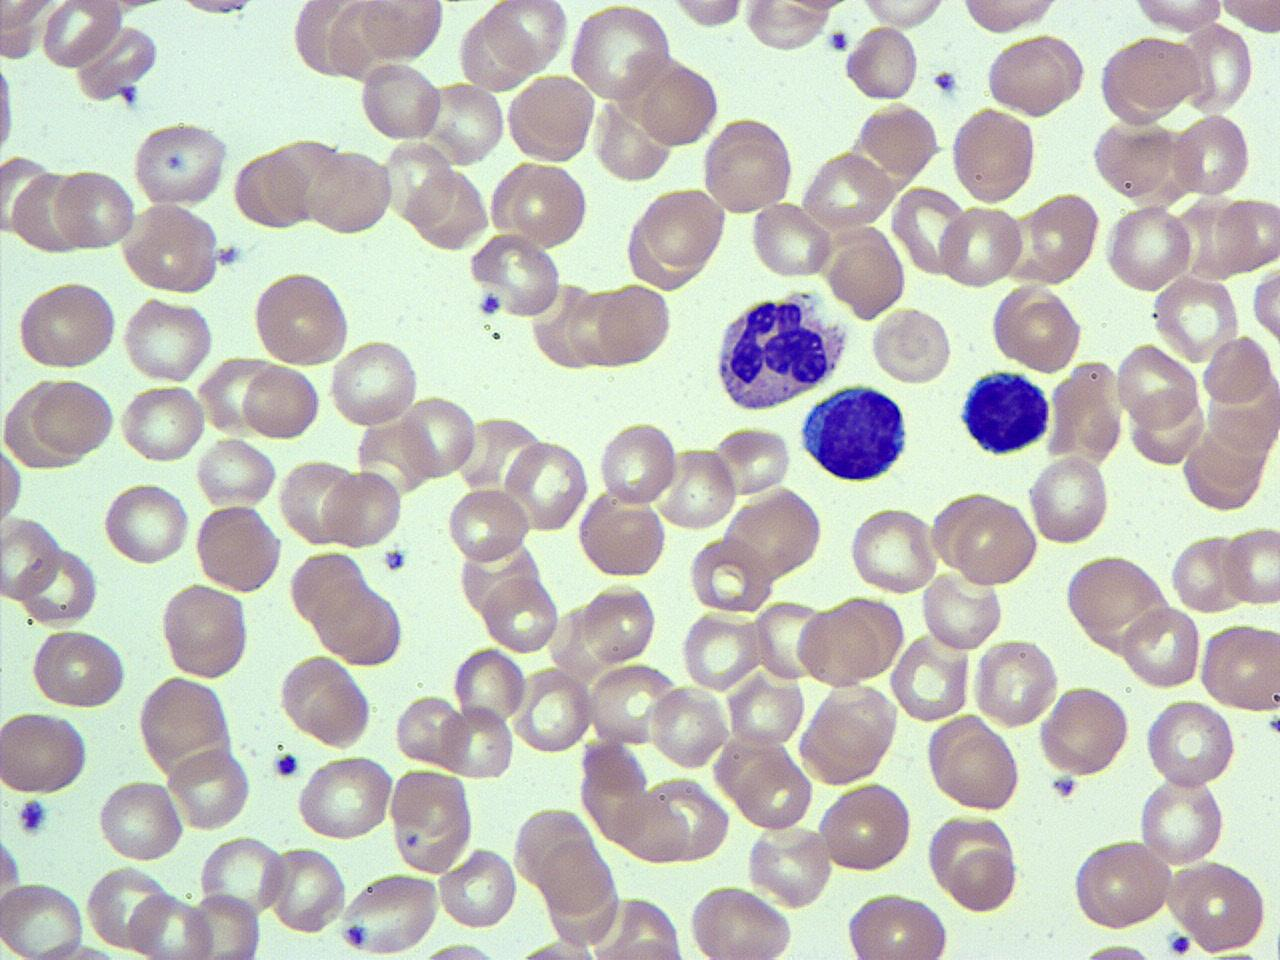Platelets: (16, 795, 51, 837), (930, 68, 962, 97), (211, 241, 243, 268), (273, 750, 301, 781), (476, 290, 503, 319), (381, 546, 407, 574), (1167, 930, 1191, 958), (121, 82, 142, 112), (826, 28, 850, 55), (1264, 714, 1280, 737)
RBC: (567, 2, 674, 102), (1166, 856, 1272, 956), (136, 674, 234, 782), (249, 268, 352, 369), (1062, 552, 1170, 644), (1070, 836, 1174, 932), (14, 278, 118, 373), (924, 714, 1022, 814), (816, 778, 915, 876), (700, 116, 796, 216), (119, 200, 220, 294), (387, 768, 476, 874), (948, 104, 1038, 208), (1037, 682, 1131, 781), (276, 652, 372, 748), (845, 502, 940, 598), (988, 282, 1085, 375), (159, 582, 250, 682), (340, 869, 442, 957), (1136, 772, 1230, 868), (118, 294, 216, 386), (1102, 201, 1196, 294), (983, 33, 1087, 118), (501, 435, 590, 534), (295, 754, 396, 842), (129, 122, 232, 208), (328, 339, 422, 432), (1100, 33, 1204, 117), (1150, 271, 1242, 366), (470, 230, 565, 321), (506, 72, 598, 165), (1143, 697, 1237, 788), (632, 185, 730, 271), (191, 502, 283, 594), (972, 635, 1060, 730), (688, 881, 794, 960), (28, 626, 127, 710), (800, 146, 896, 232), (1026, 452, 1112, 548), (825, 224, 909, 322), (95, 776, 187, 864), (0, 708, 91, 797), (577, 492, 668, 580), (99, 480, 193, 566), (356, 58, 446, 146), (196, 832, 288, 918), (924, 811, 1014, 898), (304, 148, 394, 236), (796, 602, 886, 690), (890, 181, 970, 279), (845, 888, 953, 960), (746, 822, 834, 911), (586, 663, 676, 748), (1112, 342, 1202, 428), (919, 564, 1005, 653), (887, 630, 971, 722), (938, 202, 1024, 290), (508, 160, 591, 252), (115, 381, 207, 464), (1199, 620, 1279, 714), (270, 843, 349, 938), (274, 455, 358, 544), (398, 391, 480, 482), (596, 419, 680, 506), (51, 166, 138, 251), (656, 443, 738, 532), (958, 499, 1039, 590), (30, 374, 117, 458), (406, 164, 489, 252), (1121, 602, 1203, 690), (641, 59, 721, 150), (168, 746, 252, 832), (748, 198, 834, 281), (321, 466, 404, 551), (680, 607, 763, 693), (513, 666, 593, 754), (438, 843, 518, 932), (1182, 19, 1256, 115), (1028, 188, 1102, 283), (724, 668, 806, 752), (0, 877, 86, 959), (1172, 112, 1254, 198), (686, 534, 774, 614), (648, 684, 728, 771), (451, 644, 530, 732), (430, 78, 506, 169), (231, 147, 312, 231), (446, 484, 532, 564), (870, 305, 952, 385), (239, 362, 322, 443), (580, 580, 658, 665), (481, 574, 562, 654), (596, 281, 672, 367), (76, 24, 159, 102), (1169, 530, 1245, 615), (752, 598, 825, 684), (127, 888, 215, 960), (483, 0, 570, 72), (842, 24, 920, 103), (194, 437, 278, 509), (536, 836, 616, 912), (714, 422, 792, 497), (1126, 390, 1206, 464), (40, 0, 123, 72), (442, 703, 516, 782), (185, 888, 264, 960), (1211, 192, 1279, 274), (393, 692, 466, 768), (0, 515, 62, 602), (357, 0, 444, 61), (1220, 522, 1280, 606), (740, 0, 838, 50), (947, 844, 1017, 914), (956, 0, 1064, 36), (1128, 0, 1228, 35), (856, 0, 952, 31), (1250, 261, 1280, 344), (0, 438, 25, 536), (668, 0, 748, 30), (1215, 0, 1280, 36), (415, 938, 508, 960), (1071, 938, 1161, 960), (0, 0, 58, 33), (0, 50, 17, 163)
WBC: (710, 286, 850, 416), (796, 380, 914, 485), (958, 366, 1056, 458)
